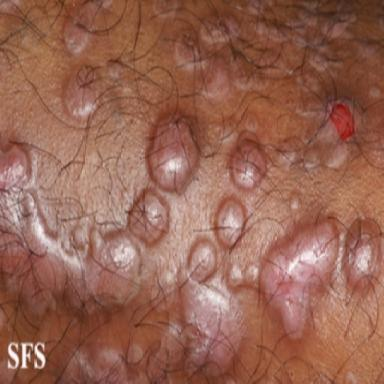Epidermolysis-Bullosa-Pruriginosa: (0, 146, 140, 317), (153, 1, 384, 100), (228, 218, 340, 339), (149, 236, 241, 380), (277, 99, 365, 170), (147, 118, 199, 194), (59, 343, 144, 383), (230, 111, 267, 189), (343, 219, 380, 292), (64, 0, 112, 55), (128, 189, 169, 245), (65, 65, 98, 119), (215, 197, 246, 247), (107, 61, 121, 80), (289, 192, 299, 210)
